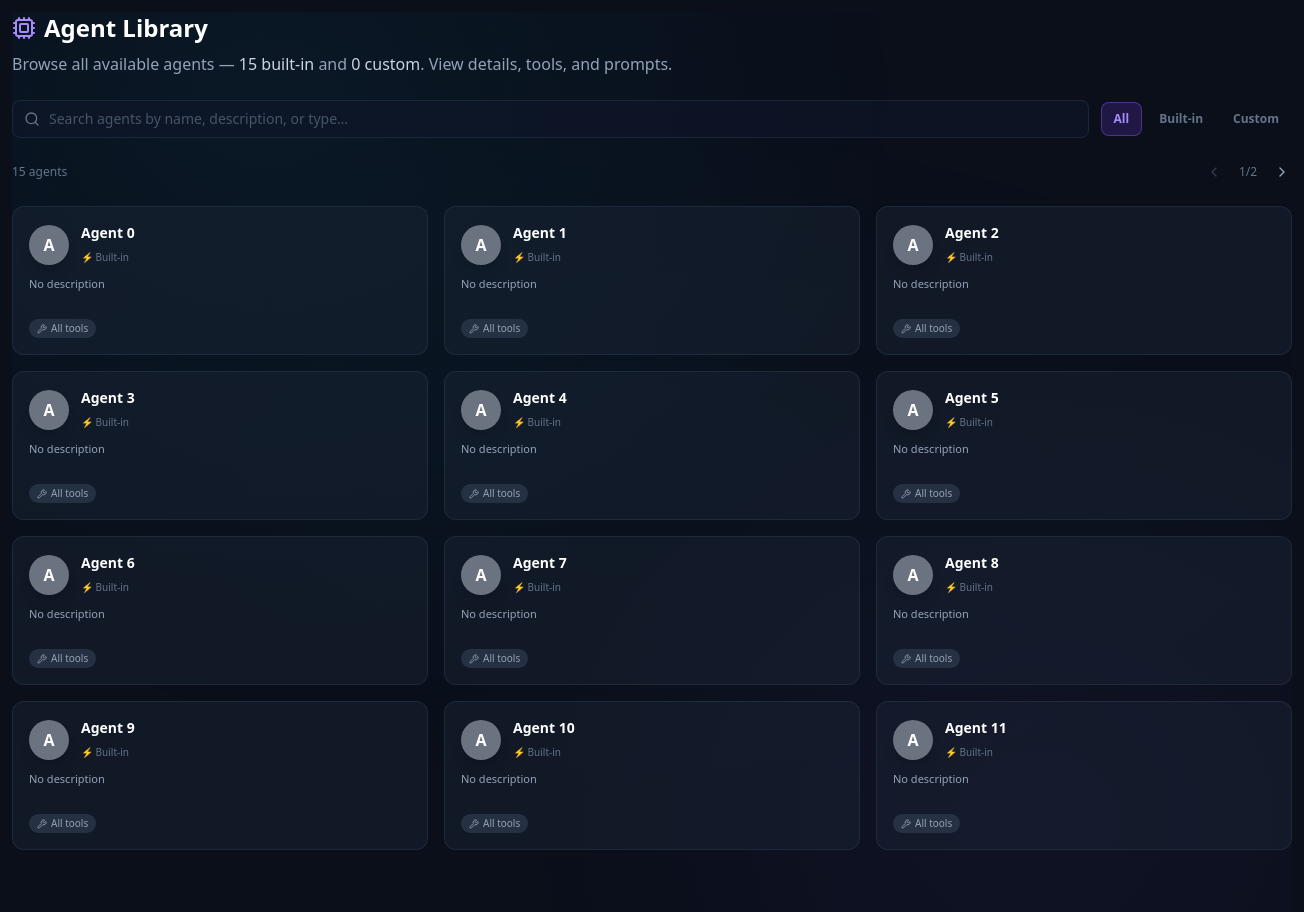
Test: AgentLibrary › resets page when filter changes
This screenshot has width=1304, height=912.
# Go to page 2
Click the 5th button at (1282, 172), box top-left (1272, 162), bottom-right (1292, 182)
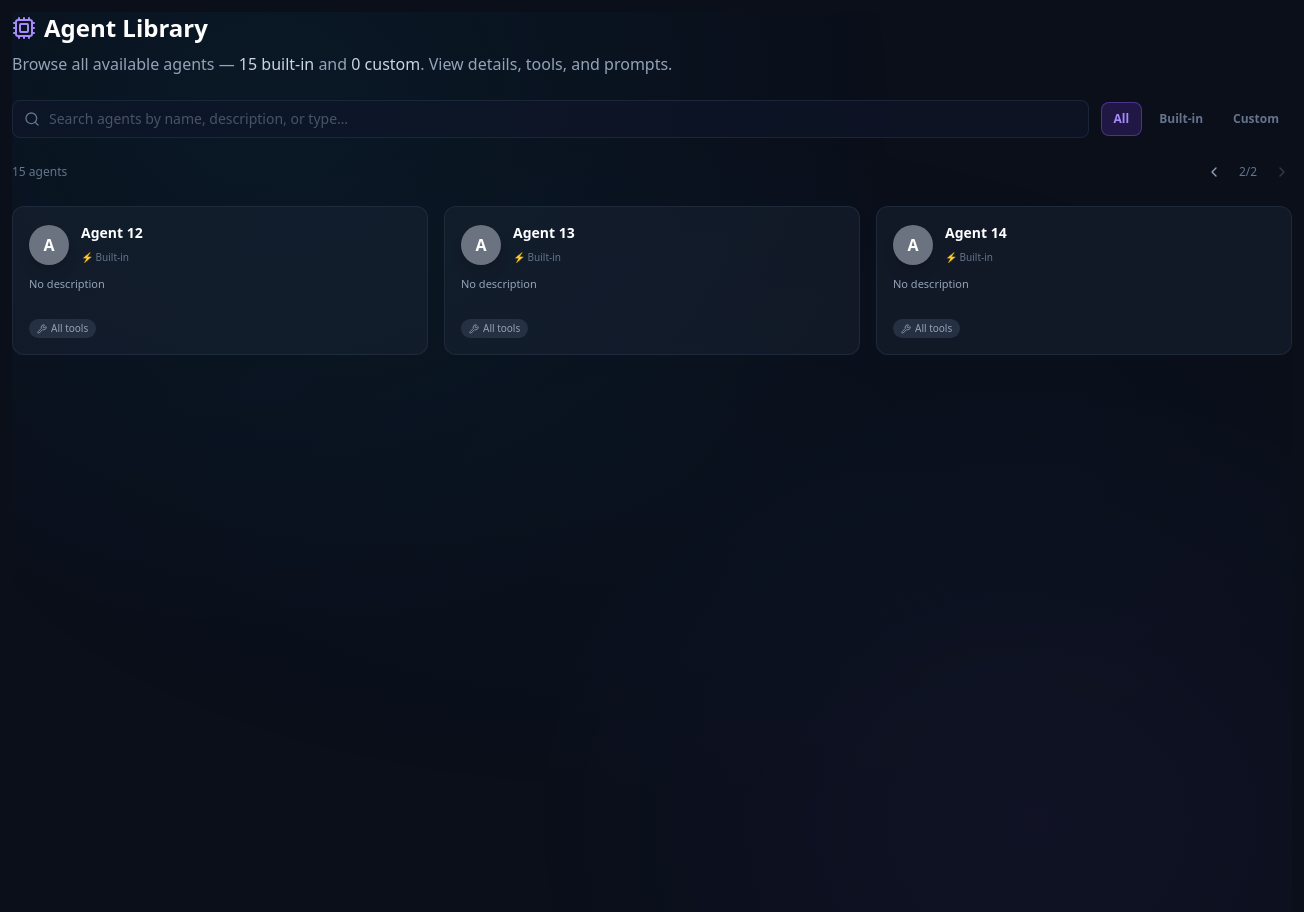
# Switch filter resets page
Click the button "Built-in" at (1181, 119), box top-left (1146, 102), bottom-right (1216, 136)
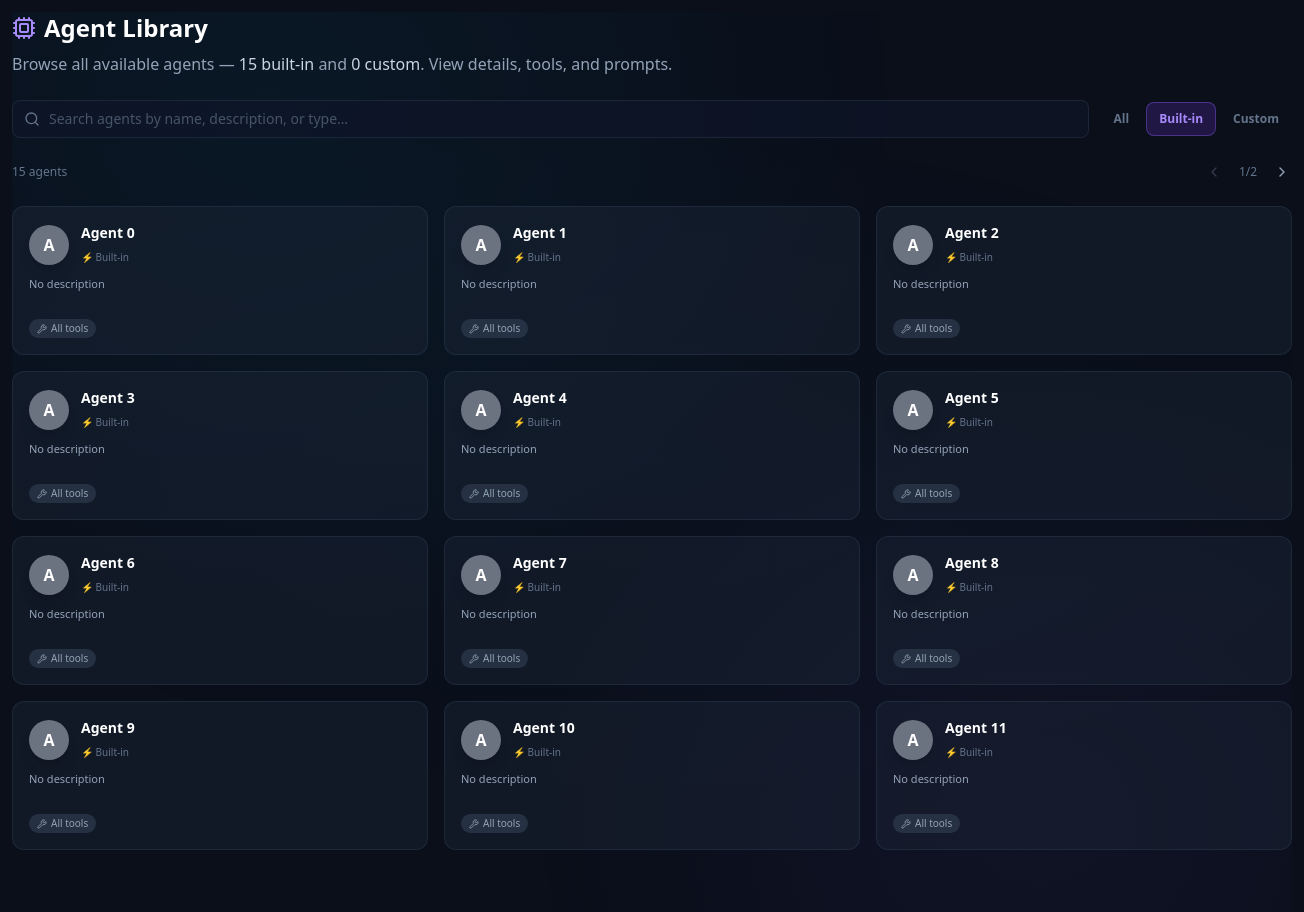
Expected: the heading "Agent 0" is shown, top-left (81, 223), bottom-right (135, 242)
